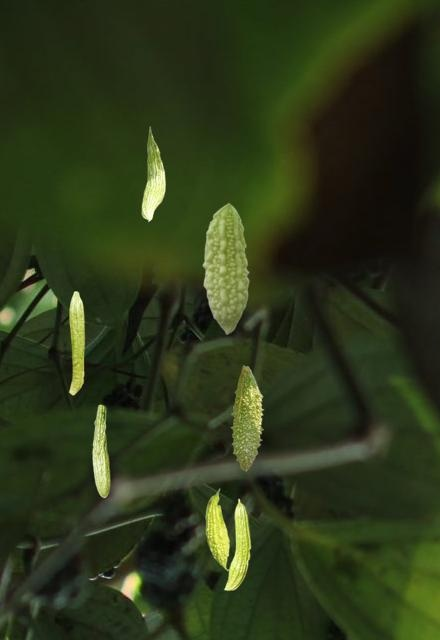ampalaya: (202, 202, 249, 335), (230, 365, 264, 471), (223, 498, 251, 591), (141, 126, 166, 222), (205, 488, 229, 571), (68, 290, 85, 395), (92, 404, 110, 498)
